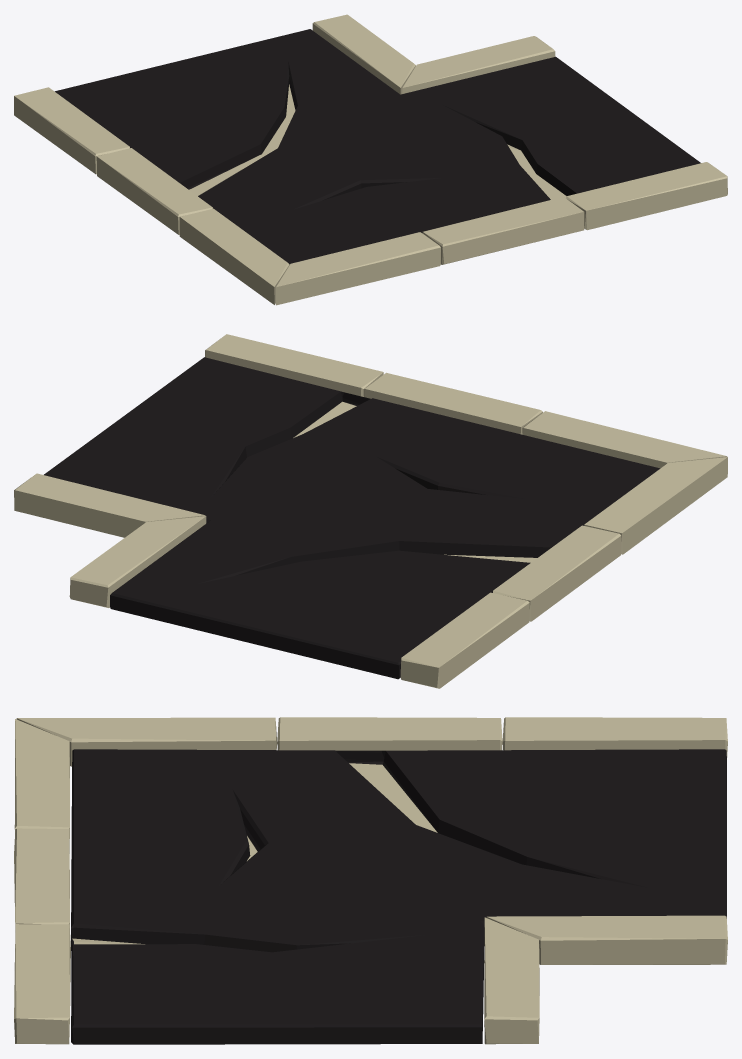
File: brokenroadcorner (3).fbx
The picture shows the model from 3 angles, top to bottom: view 1: azimuth 30°, elevation 25°; view 2: azimuth 150°, elevation 25°; view 3: azimuth 270°, elevation 25°; orthographic projection. The views are drawn at different scales.
Visible parts, largest first — view 1: yolköşe2.001; view 2: yolköşe2.001; view 3: yolköşe2.001.
Boxes of the visible parts, x1,y1,x2,y2 form: yolköşe2.001: (14, 14, 727, 305); yolköşe2.001: (14, 334, 727, 688); yolköşe2.001: (14, 717, 727, 1044).
Size of the model in its own units: 158 by 6.97 by 158.
